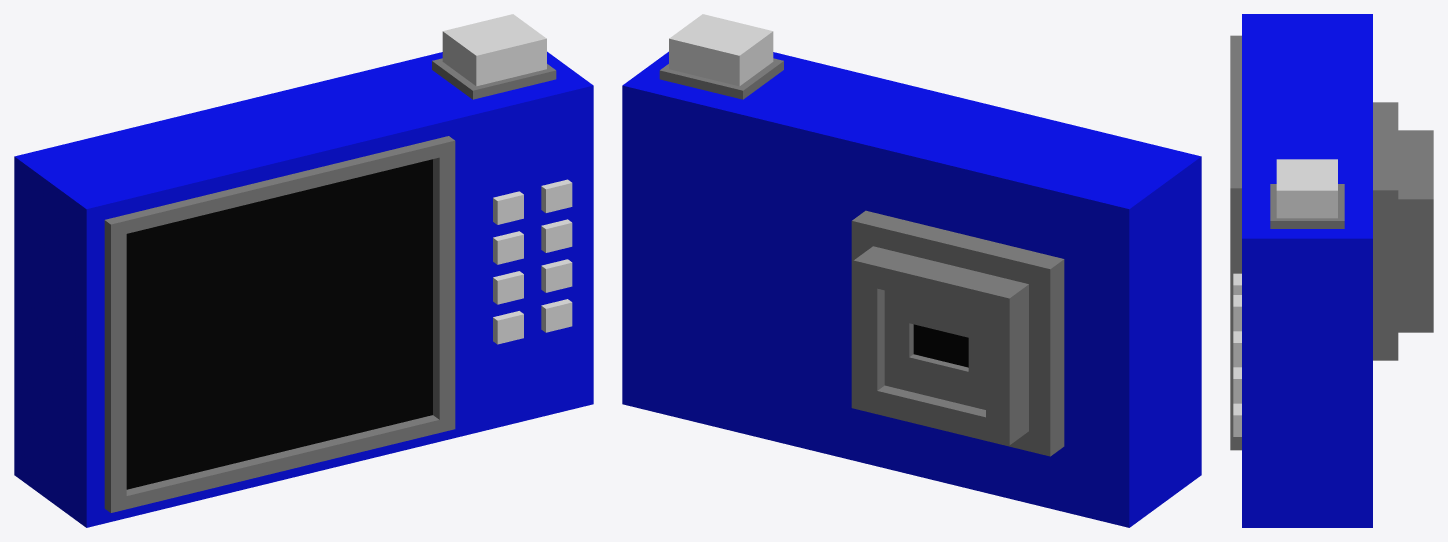
The model's file is camera.fbx.
The picture shows the model from 3 angles, left to right: view 1: azimuth 30°, elevation 25°; view 2: azimuth 150°, elevation 25°; view 3: azimuth 270°, elevation 25°; orthographic projection. The views are drawn at different scales.
Parts seen in each view (by area): view 1: Camera, Button; view 2: Camera, Button; view 3: Camera, Button.
Boxes of the visible parts, x1,y1,x2,y2 form: Camera: [14, 51, 593, 527]; Button: [442, 14, 546, 86]; Camera: [622, 51, 1201, 527]; Button: [669, 14, 773, 86]; Camera: [1230, 14, 1433, 527]; Button: [1276, 159, 1337, 218].
Bounding box in the file's own units: 558 × 377 × 213.
